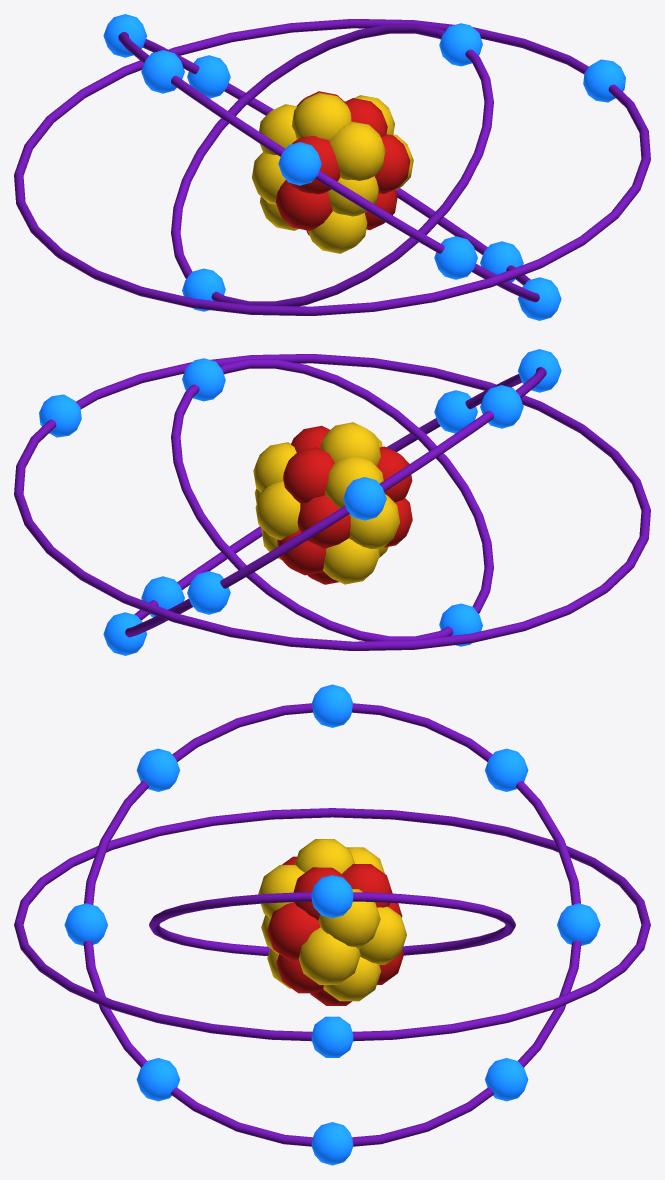
Rendered from Atom_Na.fbx.
3 renders of one model, top to bottom at view 1: azimuth 30°, elevation 25°; view 2: azimuth 150°, elevation 25°; view 3: azimuth 270°, elevation 25°, orthographic.
Visible parts, largest first — view 1: Na_Inti_Atom, Na_Orbit_3, Na_Orbit_2, Na_Orbit_1; view 2: Na_Inti_Atom, Na_Orbit_3, Na_Orbit_2, Na_Orbit_1; view 3: Na_Orbit_2, Na_Inti_Atom, Na_Orbit_3, Na_Orbit_1.
Boxes of the visible parts, bbox=[...] form: Na_Inti_Atom: bbox=[252, 91, 413, 253]; Na_Orbit_3: bbox=[14, 19, 650, 315]; Na_Orbit_2: bbox=[103, 14, 561, 320]; Na_Orbit_1: bbox=[171, 23, 493, 311]; Na_Inti_Atom: bbox=[253, 422, 412, 584]; Na_Orbit_3: bbox=[14, 354, 650, 650]; Na_Orbit_2: bbox=[103, 349, 561, 655]; Na_Orbit_1: bbox=[171, 358, 493, 646]; Na_Orbit_2: bbox=[64, 684, 600, 1165]; Na_Inti_Atom: bbox=[258, 839, 406, 1005]; Na_Orbit_3: bbox=[14, 808, 650, 1057]; Na_Orbit_1: bbox=[149, 875, 515, 955].
Size of the model in its own units: 1.64 by 0.8611 by 1.6.
